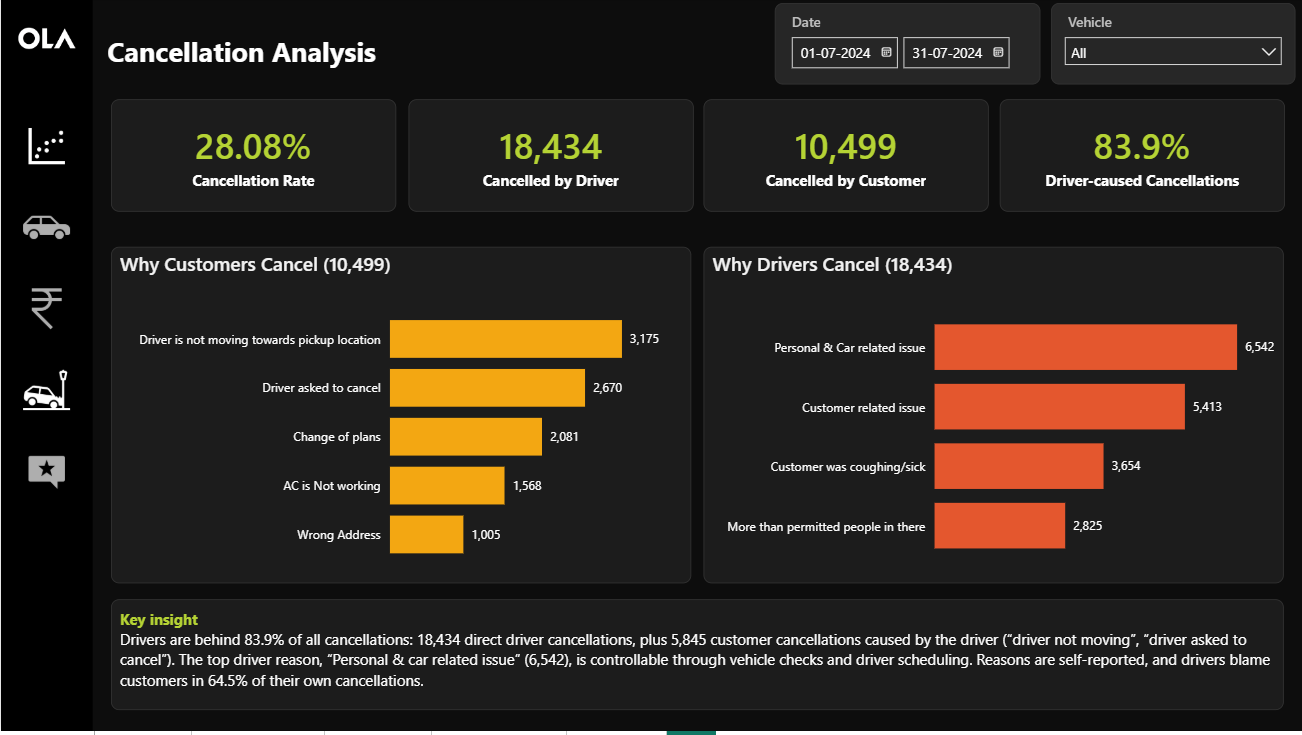

The page's visual inventory and layout, read from the dashboard file:
{"tool":"powerbi","page":{"name":"Cancellation","canvas":[1280,720],"ordinal":3},"visuals":[{"type":"group","id":"g1","title":"Group 1","box":[0,0,90,720],"z":0},{"type":"shape","box":[0,0,90,720],"z":0,"group":"g1"},{"type":"slicer","fields":{"Values":["ola_rides.Ride_Date"]},"box":[759.6,5.1,260.4,80],"z":1000},{"type":"image","box":[10,25,70,30],"z":1000,"group":"g1"},{"type":"slicer","fields":{"Values":["ola_rides.Vehicle_Type"]},"box":[1030.3,5.1,240,80],"z":1001},{"type":"textbox","box":[100,30,600,45],"z":1002},{"type":"cardVisual","fields":{"Data":["_Measures.Cancellation Rate"]},"box":[108.5,99.6,280,110],"z":1003},{"type":"cardVisual","fields":{"Data":["_Measures.Driver Cancellations Label"]},"box":[399.6,99.6,280,110],"z":1004},{"type":"cardVisual","fields":{"Data":["_Measures.Driver Caused %"]},"box":[980.5,99.6,280,110],"z":1006},{"type":"cardVisual","fields":{"Data":["_Measures.Customer Cancellations Label"]},"box":[689.4,99.6,280,110],"z":1007},{"type":"clusteredBarChart","title":"Why Customers Cancel (10,499)","fields":{"Category":["ola_rides.Cancellation_Reason"],"Y":["_Measures.Customer Cancellations"]},"box":[108.6,244.3,569.9,330.5],"z":1008},{"type":"clusteredBarChart","title":"Why Drivers Cancel (18,434)","fields":{"Category":["ola_rides.Cancellation_Reason"],"Y":["_Measures.Driver Cancellations"]},"box":[689.7,244.3,569.9,330.5],"z":1009},{"type":"textbox","box":[108.6,590.7,1151,108.6],"z":1010},{"type":"image","box":[20,120,50,50],"z":2000,"group":"g1"},{"type":"image","box":[20,200,50,50],"z":3000,"group":"g1"},{"type":"image","box":[20,280,50,50],"z":4000,"group":"g1"},{"type":"image","box":[20,360,50,50],"z":5000,"group":"g1"},{"type":"image","box":[20,440,50,50],"z":6000,"group":"g1"}]}

Visuals, with their boxes on the page's 1280x720 design canvas (x1, y1, x2, y2). These are canvas units, not pixel positions in the 1302x735 screenshot, which may show the page scaled, cropped or inside an application window:
"Group 1" group: crop(0, 0, 90, 720)
shape: crop(0, 0, 90, 720)
slicer - ola_rides.Ride_Date: crop(760, 5, 1020, 85)
image: crop(10, 25, 80, 55)
slicer - ola_rides.Vehicle_Type: crop(1030, 5, 1270, 85)
textbox: crop(100, 30, 700, 75)
cardVisual - _Measures.Cancellation Rate: crop(108, 100, 388, 210)
cardVisual - _Measures.Driver Cancellations Label: crop(400, 100, 680, 210)
cardVisual - _Measures.Driver Caused %: crop(980, 100, 1260, 210)
cardVisual - _Measures.Customer Cancellations Label: crop(689, 100, 969, 210)
"Why Customers Cancel (10,499)" clusteredBarChart: crop(109, 244, 678, 575)
"Why Drivers Cancel (18,434)" clusteredBarChart: crop(690, 244, 1260, 575)
textbox: crop(109, 591, 1260, 699)
image: crop(20, 120, 70, 170)
image: crop(20, 200, 70, 250)
image: crop(20, 280, 70, 330)
image: crop(20, 360, 70, 410)
image: crop(20, 440, 70, 490)
